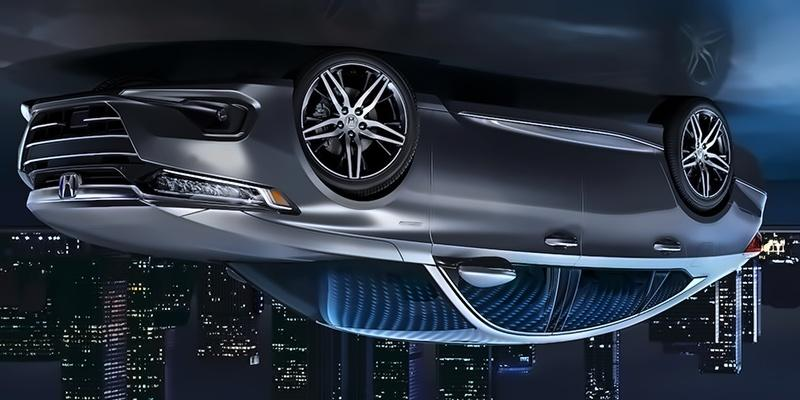Car hood: (19, 186, 403, 266)
Driver-s door - -F-R-: (429, 108, 581, 359)
Front bumper: (15, 76, 297, 188)
Headlight - -R-: (128, 169, 303, 217)
Passenger-s door - -R-R-: (582, 128, 688, 342)
Rear bumper: (723, 174, 778, 221)
Rear light - -R-: (741, 228, 766, 262)
Side bumper - -R-: (412, 88, 668, 153)
Side mirror - -R-: (455, 255, 519, 289)
